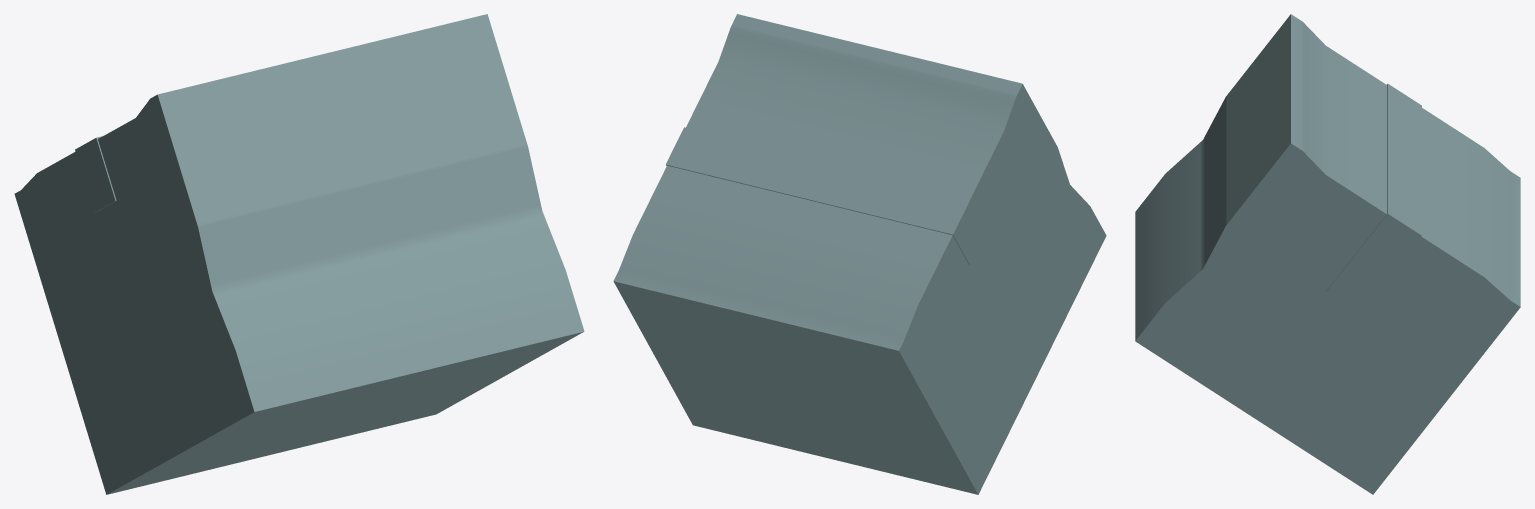
Rendered from Sloth_SmallPosterClosed.fbx.
3 views of the same model, side by side, from view 1: azimuth 30°, elevation 25°; view 2: azimuth 150°, elevation 25°; view 3: azimuth 270°, elevation 25° (orthographic). The views are drawn at different scales.
Visible parts, largest first — view 1: small_closed_box; view 2: small_closed_box; view 3: small_closed_box.
Part boxes in pixels (x1=…): small_closed_box: x1=14, y1=14, x2=584, y2=494; small_closed_box: x1=613, y1=14, x2=1106, y2=494; small_closed_box: x1=1135, y1=14, x2=1520, y2=494.
Bounding box in the file's own units: 0.7374 × 0.929 × 0.923.
